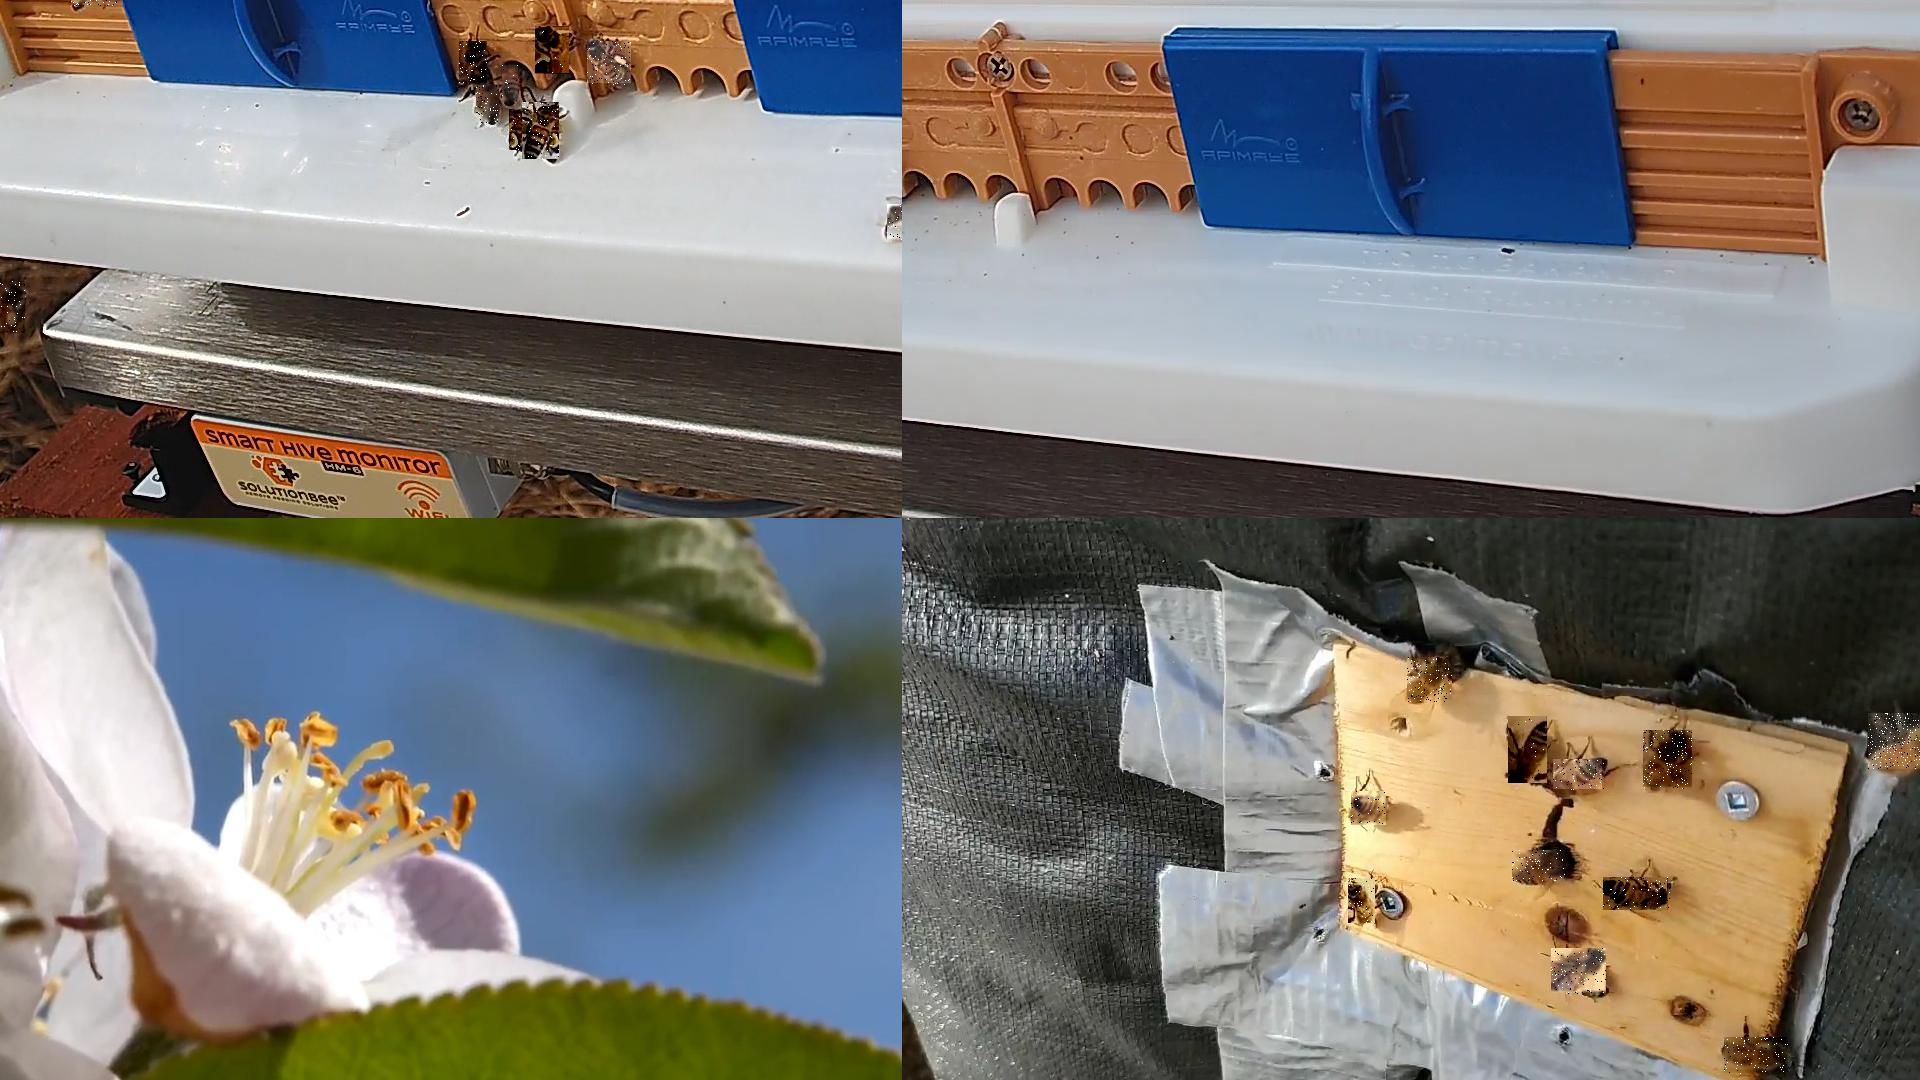bee: (1643, 731, 1693, 791), (1869, 713, 1919, 771), (1509, 716, 1548, 785), (1551, 949, 1607, 996), (1725, 1038, 1791, 1076), (1604, 877, 1672, 911), (1407, 658, 1453, 704), (1513, 851, 1567, 884), (1553, 760, 1606, 793), (1348, 878, 1377, 924), (459, 41, 488, 84), (1352, 791, 1387, 825), (509, 109, 531, 152), (476, 86, 500, 125), (502, 66, 520, 105)
pollenbee: (522, 102, 560, 160), (587, 42, 632, 87), (535, 26, 570, 78), (0, 280, 26, 335), (887, 204, 901, 243)
